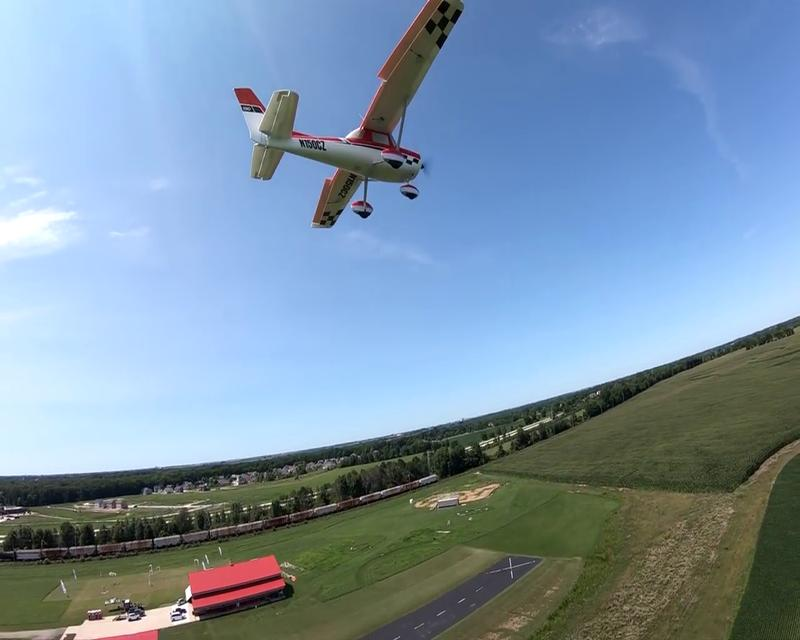UAV: (233, 0, 464, 231)
